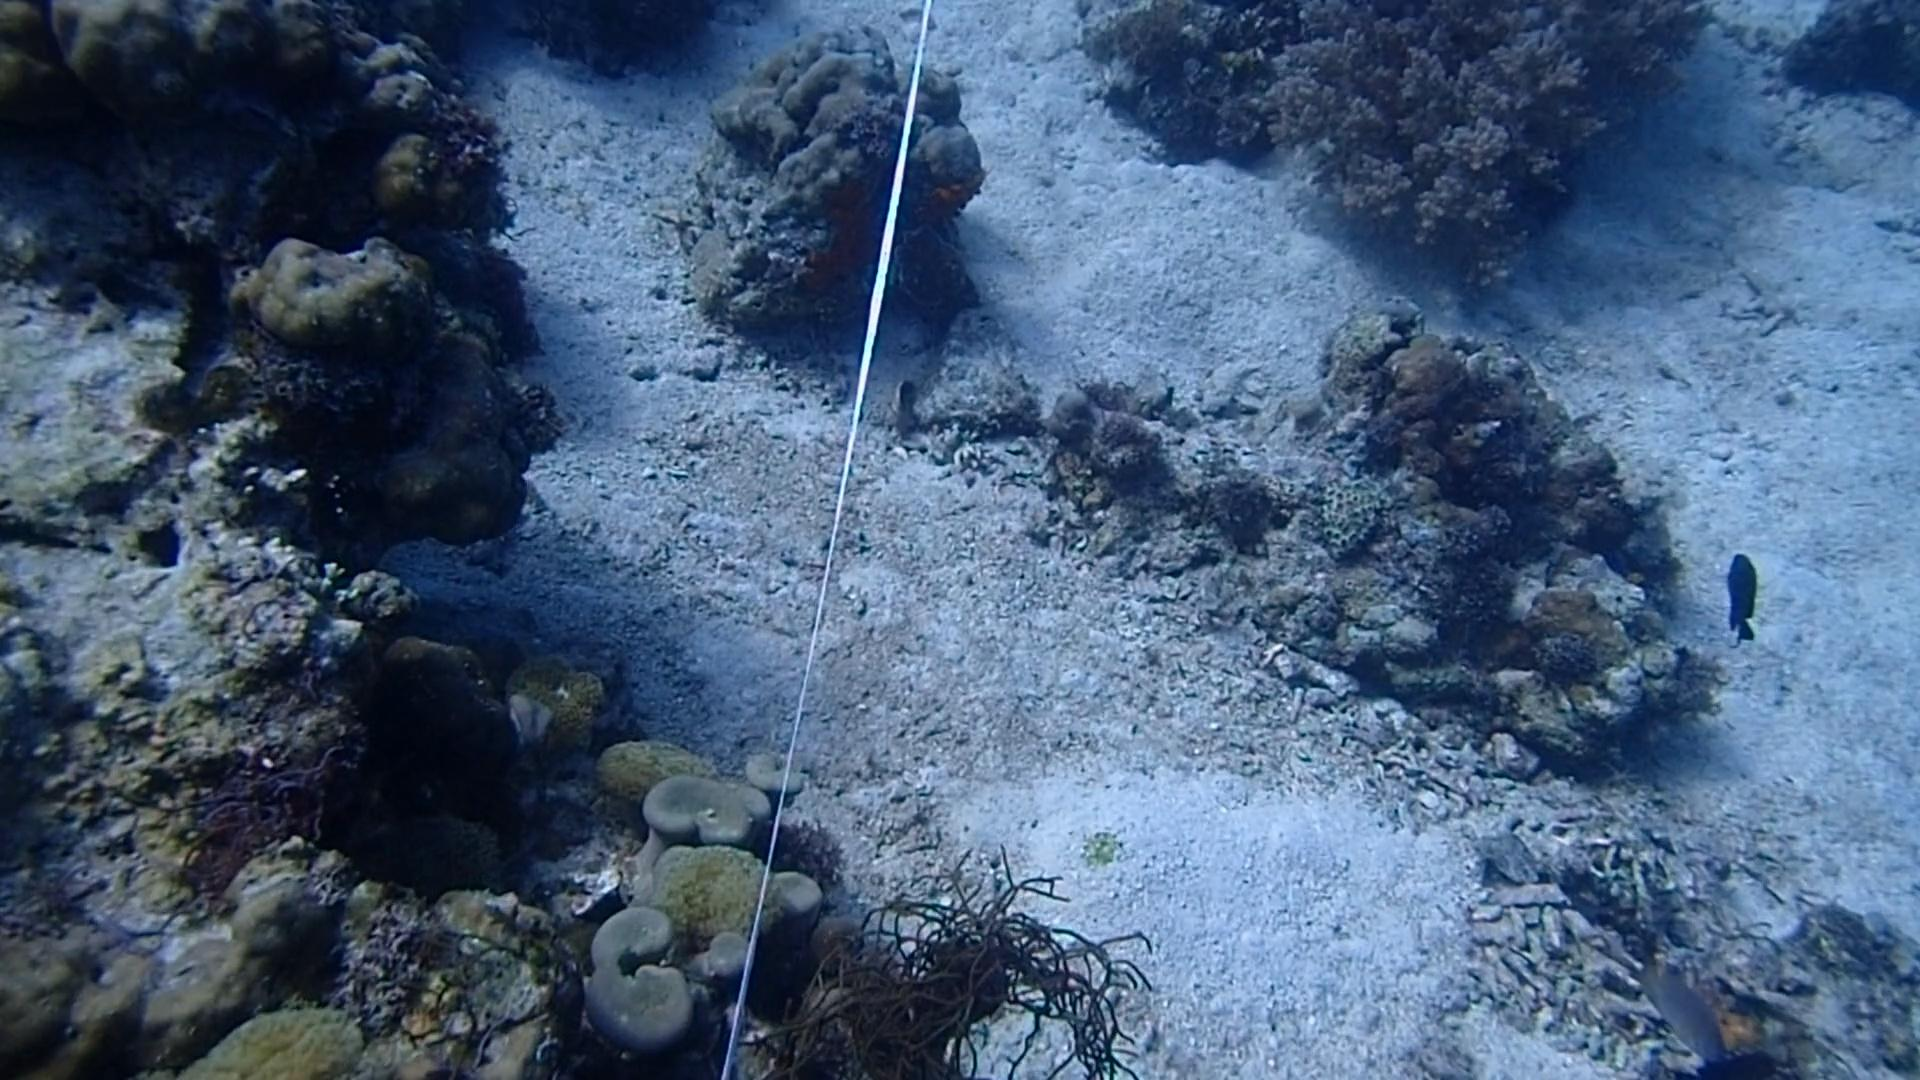Dark Fish: (1709, 546, 1780, 645)
Light Fish: (1633, 963, 1738, 1065)
